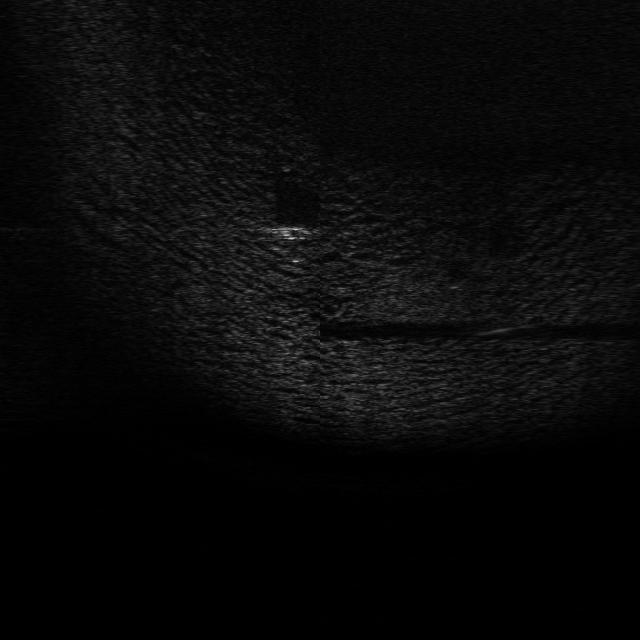plane: (270, 223, 322, 243)
